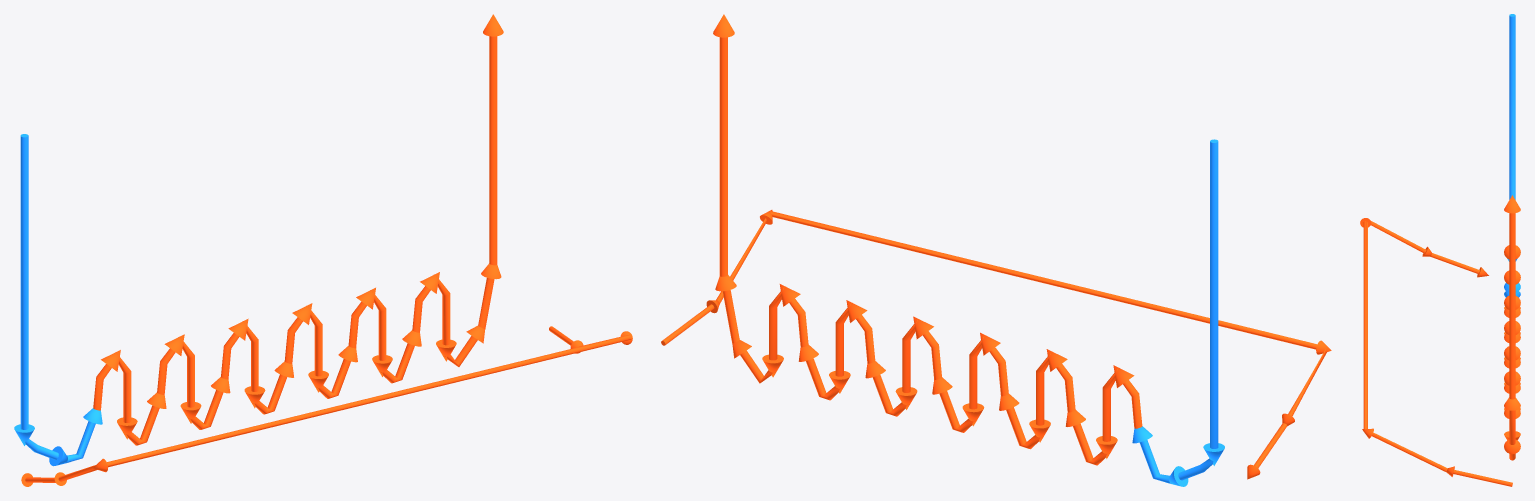
Rendered from horizontal_multistage_pump_flow.glb.
The picture shows the model from 3 angles, left to right: view 1: azimuth 30°, elevation 25°; view 2: azimuth 150°, elevation 25°; view 3: azimuth 270°, elevation 25°; orthographic projection. The views are drawn at different scales.
Parts seen in each view (by area): view 1: flow_discharge, flow_balance_leakoff, flow_suction; view 2: flow_discharge, flow_balance_leakoff, flow_suction; view 3: flow_discharge, flow_balance_leakoff, flow_suction.
Boxes of the visible parts, x1,y1,x2,y2 form: flow_discharge: [93, 14, 503, 445]; flow_balance_leakoff: [21, 326, 632, 486]; flow_suction: [14, 134, 102, 466]; flow_discharge: [713, 14, 1142, 465]; flow_balance_leakoff: [661, 210, 1331, 479]; flow_suction: [1132, 139, 1224, 486]; flow_discharge: [1504, 195, 1520, 460]; flow_balance_leakoff: [1360, 218, 1512, 486]; flow_suction: [1504, 14, 1520, 297].
Size of the model in its own units: 0.9523 by 0.5682 by 0.296.
